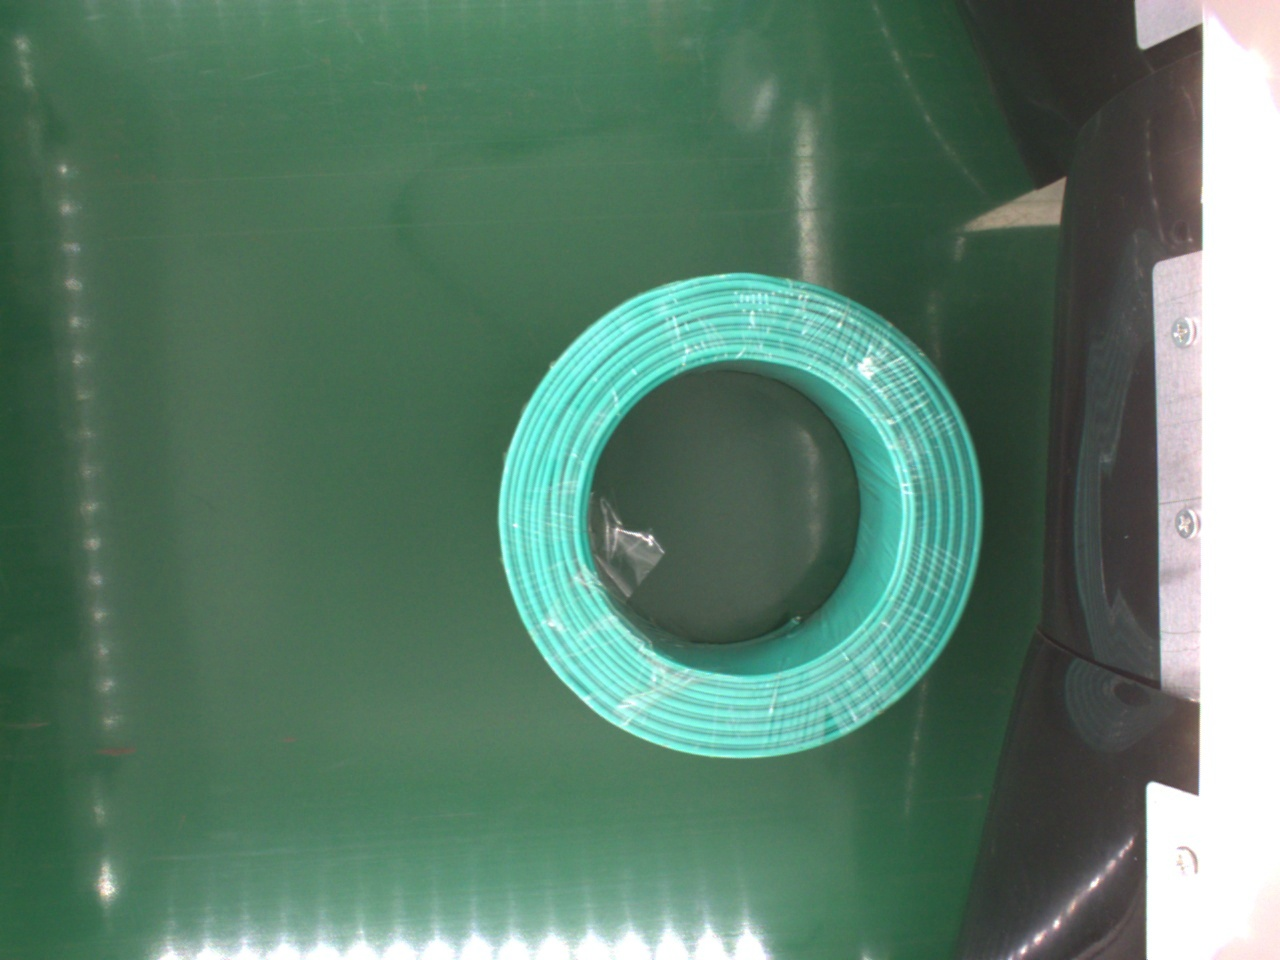green: (495, 270, 982, 765)
